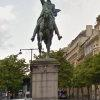Statue: (26, 0, 63, 66)
